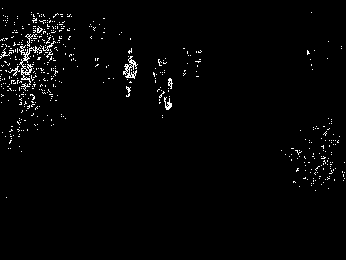person: (123, 54, 139, 99)
